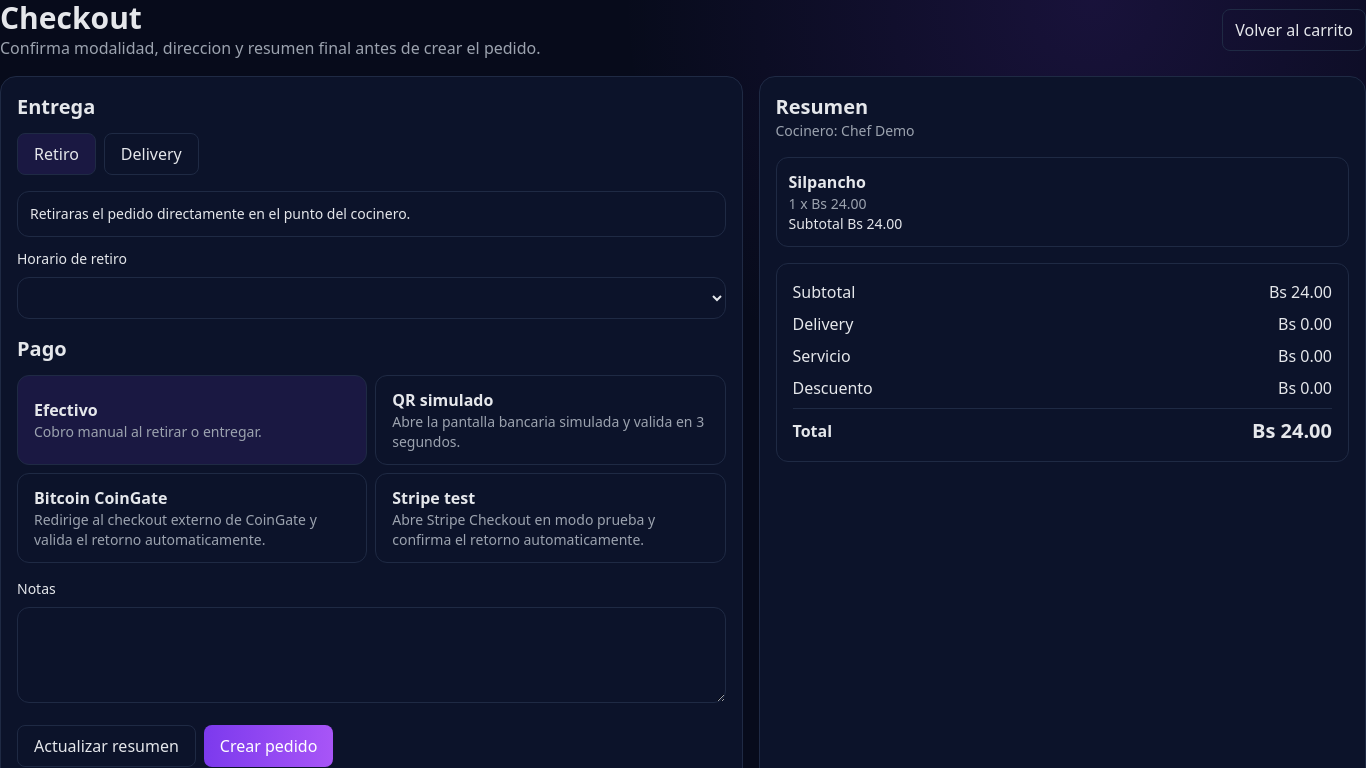
Test: ClientCheckoutPage › confirma un pedido cash y muestra pantalla de exito
Expected: the text "Cocinero: Chef Demo" is shown, top-left (776, 121), bottom-right (915, 140)
Click the button "Crear pedido" at (269, 746), box top-left (204, 725), bottom-right (333, 767)
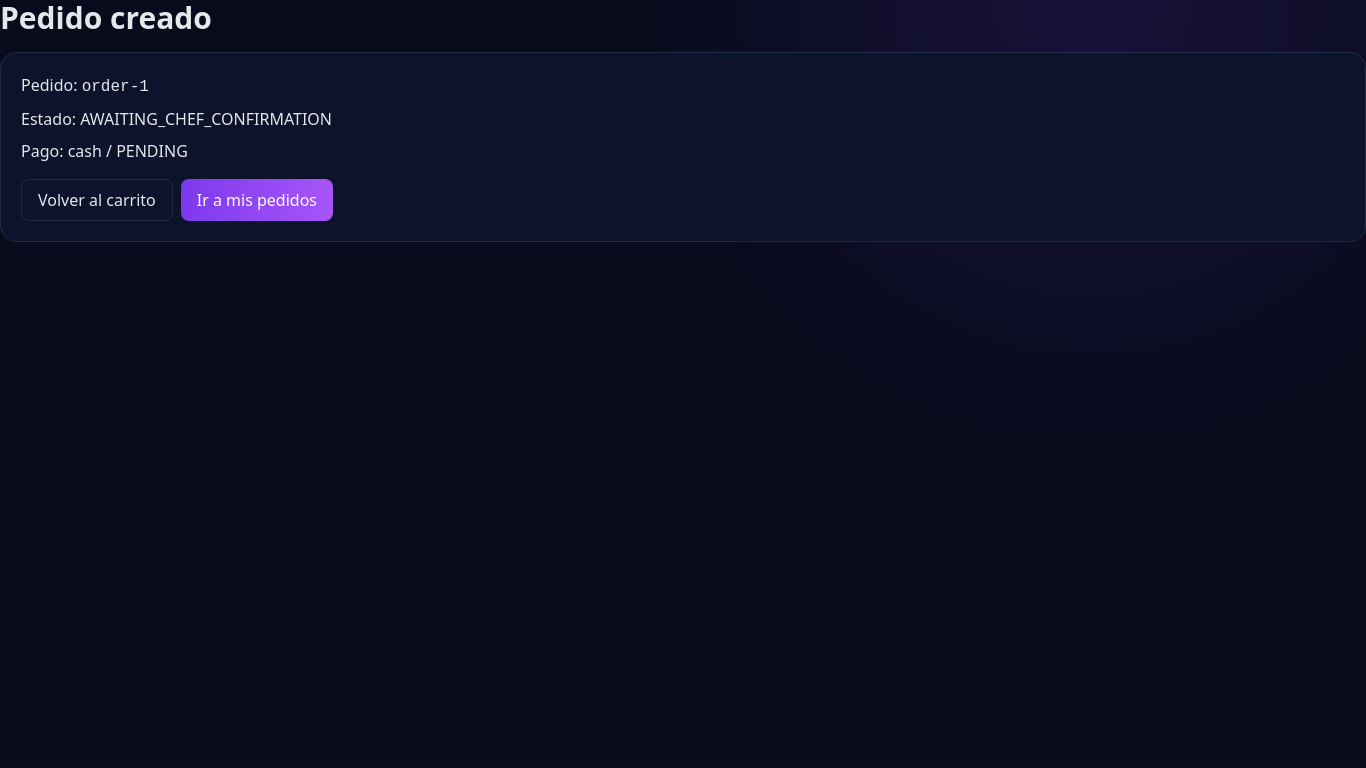
Expected: the text "order-1" is shown, top-left (82, 78), bottom-right (149, 96)
